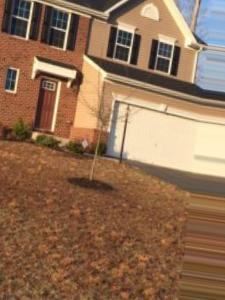patch: (82, 202, 140, 257), (19, 177, 67, 230), (20, 243, 70, 284), (99, 264, 150, 293), (106, 165, 142, 197), (155, 197, 179, 233), (14, 146, 48, 168), (156, 244, 177, 279)
